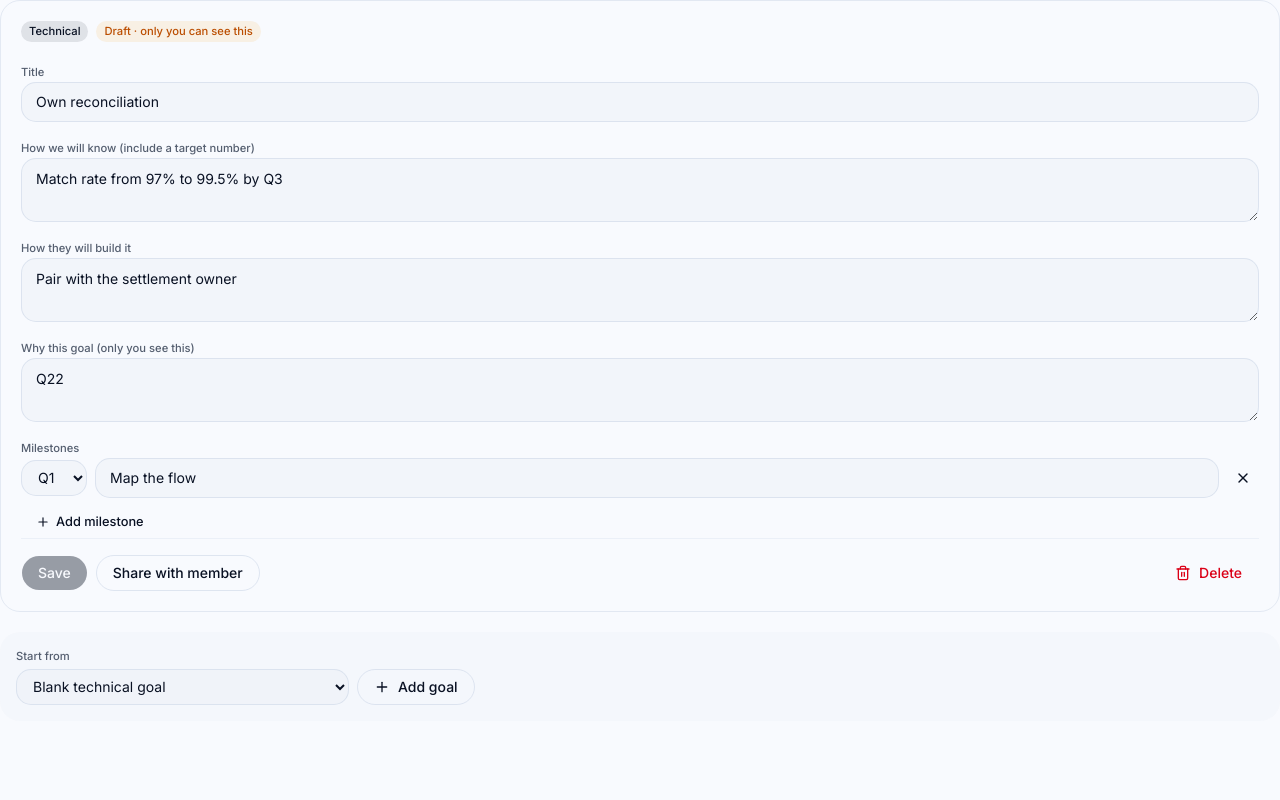
GoalEditor: editing › cannot save until something changes
Expected: the button "Save" is disabled, [21,555,88,591]
Replace the text in the field named "Title" with "New title" at [640, 102], box [21,82,1259,122]
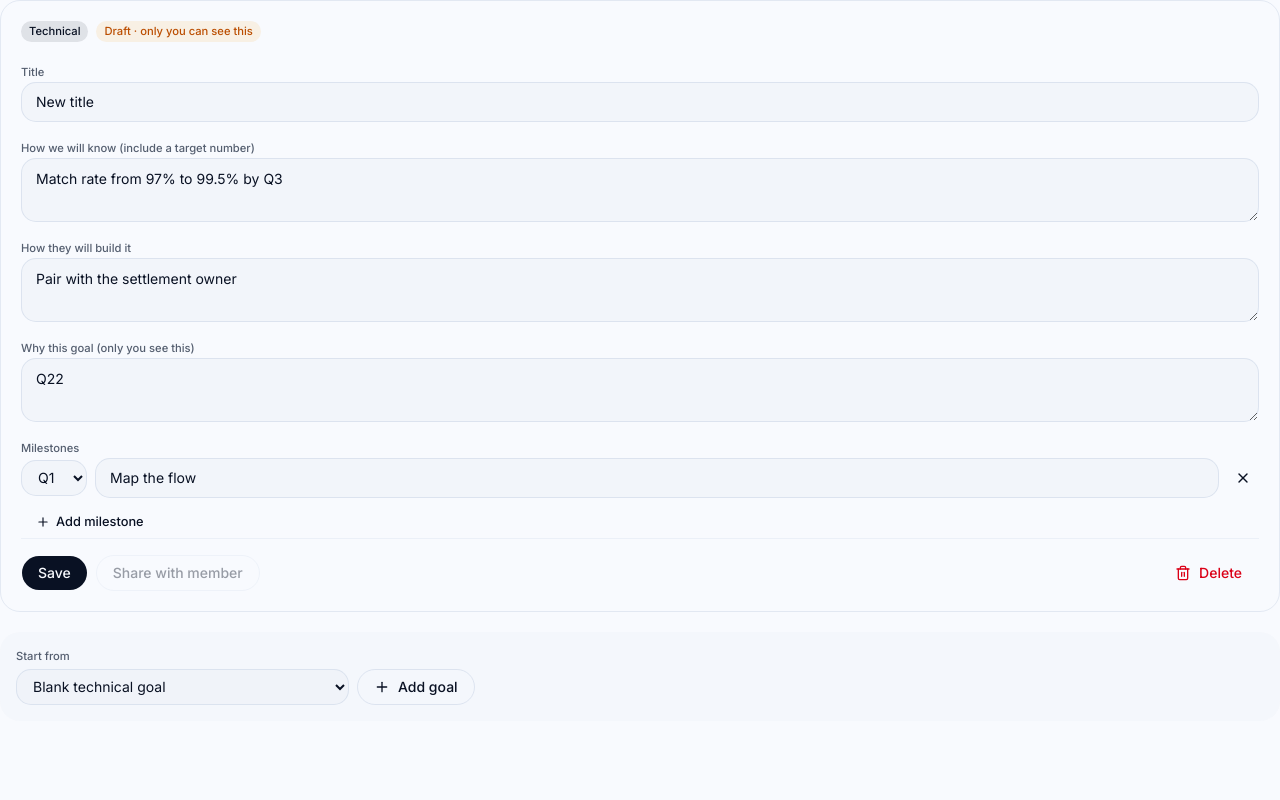
Expected: the button "Save" is enabled, [21,555,88,591]
